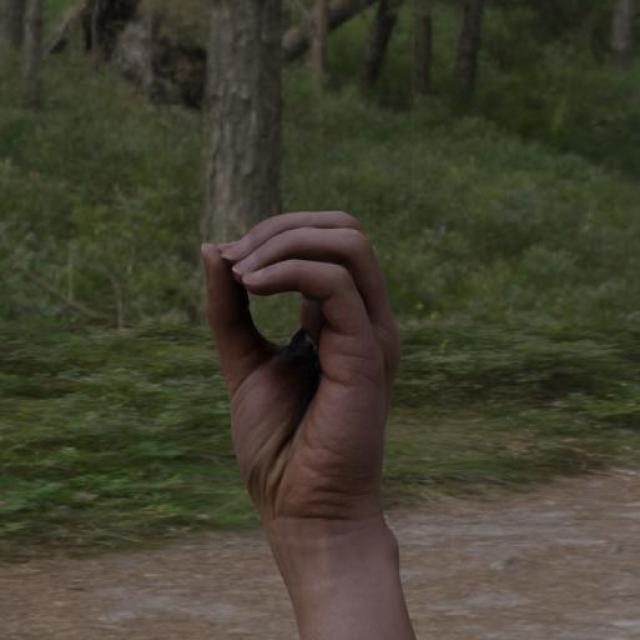O: (175, 196, 422, 540)
